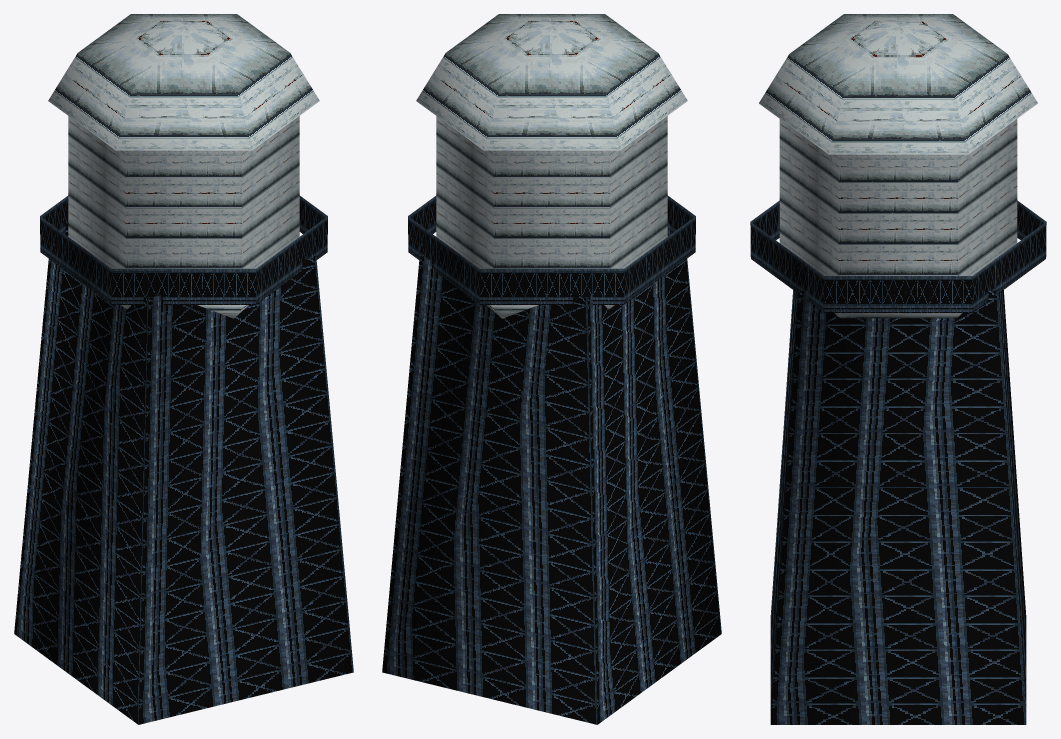
The model's file is 3356IMIG13_07.gltf.
3 renders of one model, left to right at view 1: azimuth 30°, elevation 25°; view 2: azimuth 150°, elevation 25°; view 3: azimuth 270°, elevation 25°, orthographic. The views are drawn at different scales.
Parts seen in each view (by area): view 1: 3356IMIG13_07; view 2: 3356IMIG13_07; view 3: 3356IMIG13_07.
Boxes of the visible parts, x1,y1,x2,y2 form: 3356IMIG13_07: (14,14,353,724); 3356IMIG13_07: (382,14,721,724); 3356IMIG13_07: (750,14,1046,724).
Bounding box in the file's own units: 0.8105 × 2.25 × 0.936.
Materials: 2 (2 with a texture image).
